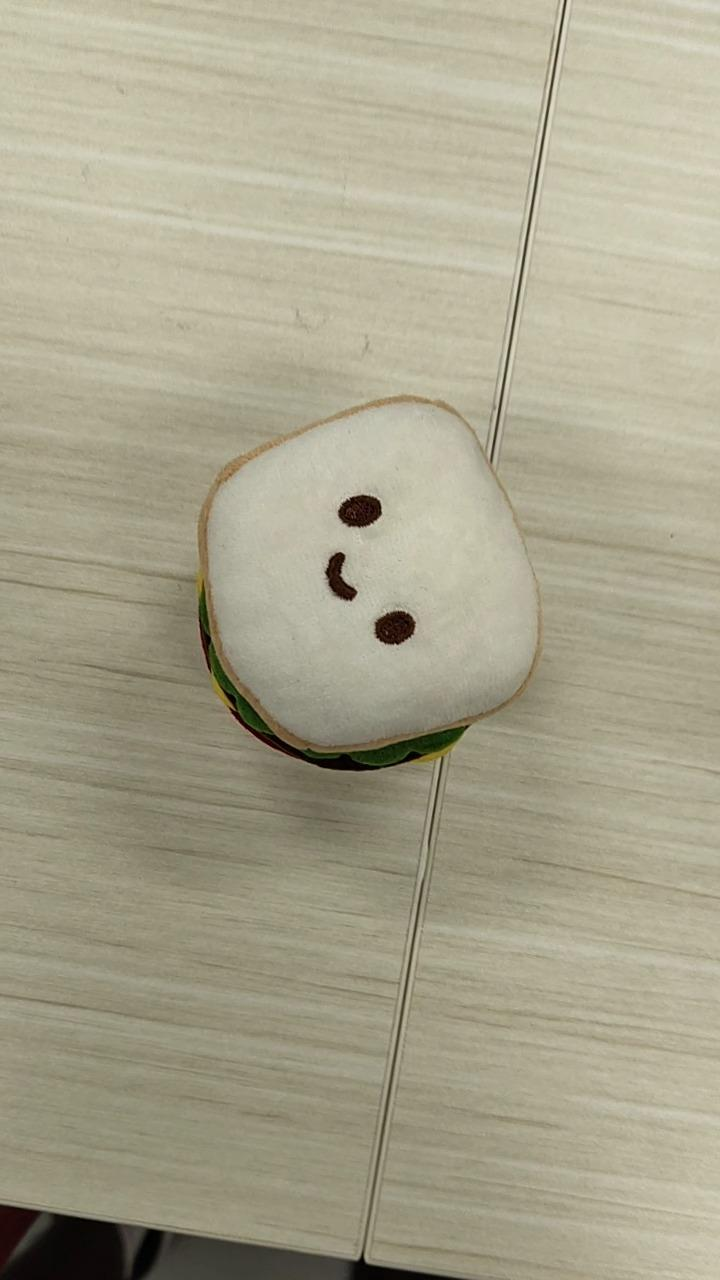objects: (194, 391, 543, 773)
